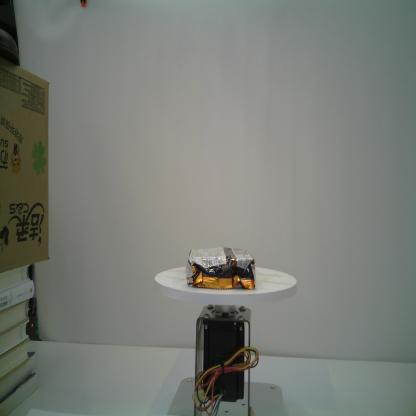Dessert: (183, 245, 259, 291)
